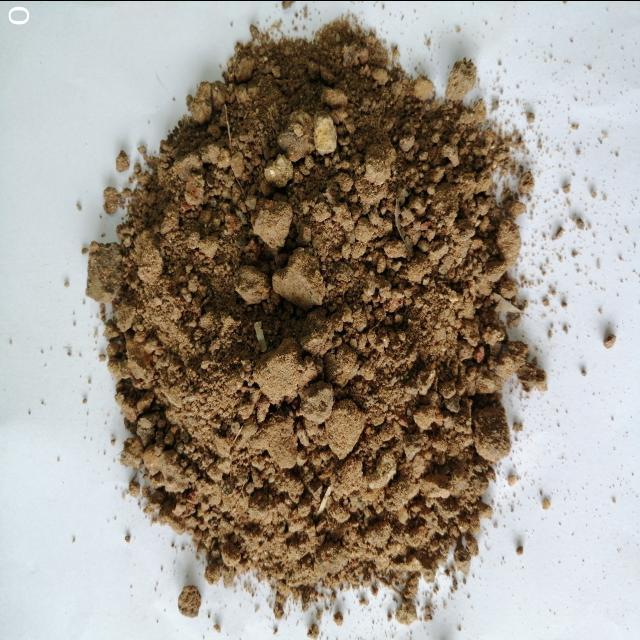soil: (162, 162, 442, 490)
